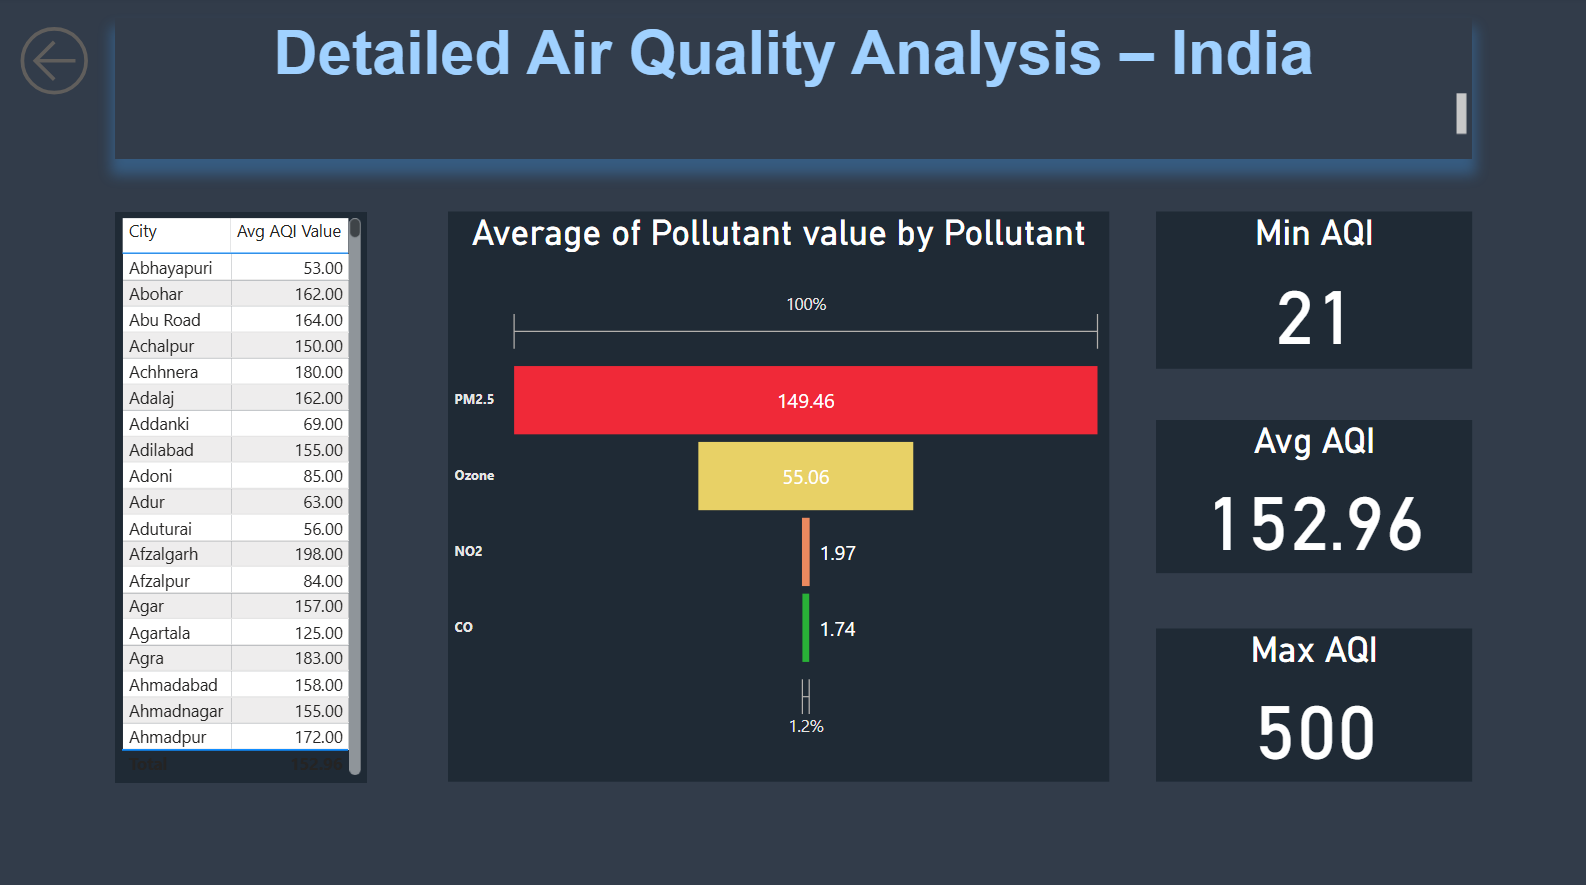

This screenshot's page, from the dashboard's own definition file:
{"tool":"powerbi","page":{"name":"Country drill through","canvas":[1280,720],"ordinal":4},"visuals":[{"type":"tableEx","fields":{"Values":["global_air_pollution_data.city_name","Avg(global_air_pollution_data.aqi_value)"]},"box":[94.2,172.8,203,459.2],"z":0},{"type":"funnel","fields":{"Category":["global_air_pollution_data.Pollutant"],"Y":["Avg(global_air_pollution_data.Pollutant value)"]},"box":[362.5,172.8,532.9,459.2],"z":1000},{"type":"card","title":"Avg AQI","fields":{"Values":["Avg(global_air_pollution_data.aqi_value)"]},"box":[932.8,340.7,255,123.2],"z":2000},{"type":"actionButton","box":[10.9,16.9,74.9,68.9],"z":3000},{"type":"card","title":"Max AQI","fields":{"Values":["Max(global_air_pollution_data.aqi_value)"]},"box":[932.8,508.7,255,123.2],"z":4000},{"type":"card","title":"Min AQI","fields":{"Values":["Min(global_air_pollution_data.aqi_value)"]},"box":[932.8,172.8,255,126.9],"z":5000},{"type":"textbox","box":[94.2,16.9,1093.5,113.6],"z":6000}]}

Visuals, with their boxes in screenshot pixels (x1, y1, x2, y2), scaled from the page's 1280x720 canvas onto the 1586x885 screenshot:
tableEx - global_air_pollution_data.city_name x Avg(global_air_pollution_data.aqi_value): locate(117, 212, 368, 777)
funnel - global_air_pollution_data.Pollutant x Avg(global_air_pollution_data.Pollutant value): locate(449, 212, 1109, 777)
"Avg AQI" card: locate(1156, 419, 1472, 570)
actionButton: locate(14, 21, 106, 105)
"Max AQI" card: locate(1156, 625, 1472, 777)
"Min AQI" card: locate(1156, 212, 1472, 368)
textbox: locate(117, 21, 1472, 160)
